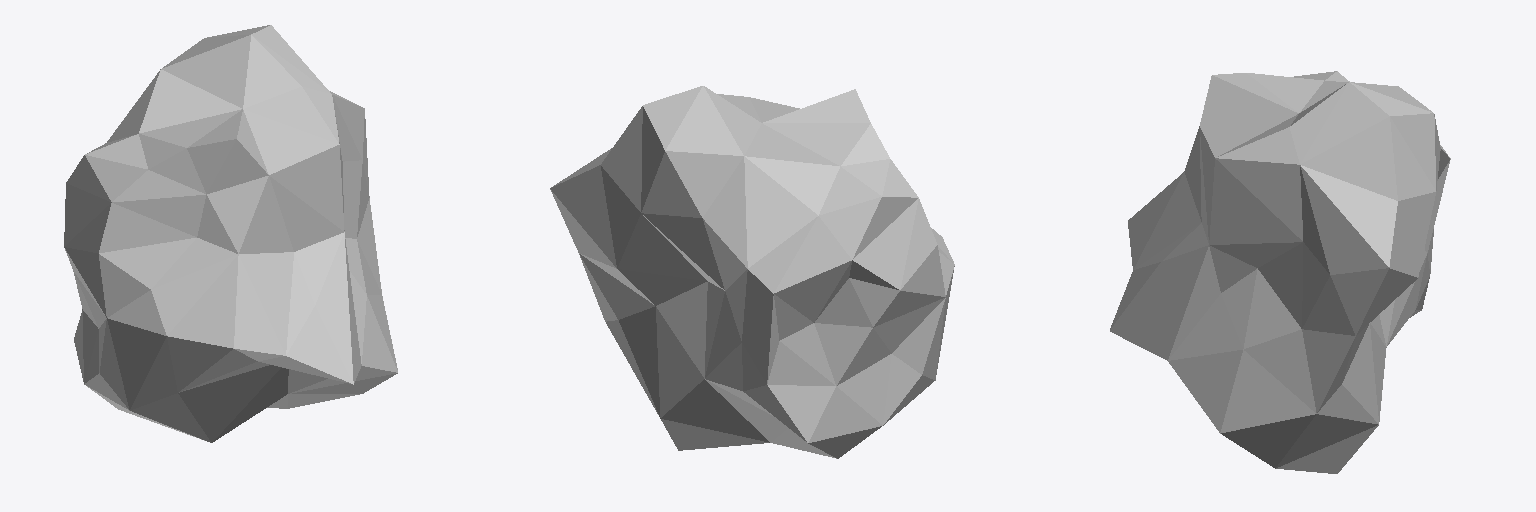
File: meteor.obj
3 renders of one model, left to right at view 1: azimuth 30°, elevation 25°; view 2: azimuth 150°, elevation 25°; view 3: azimuth 270°, elevation 25°, orthographic.
Visible parts, largest first — view 1: Meteor; view 2: Meteor; view 3: Meteor.
Part boxes in pixels (x1,y1,x2,y2): Meteor: (64, 25, 397, 442); Meteor: (550, 86, 954, 458); Meteor: (1110, 71, 1450, 473).
Size of the model in its own units: 1.12 by 1.24 by 1.01.